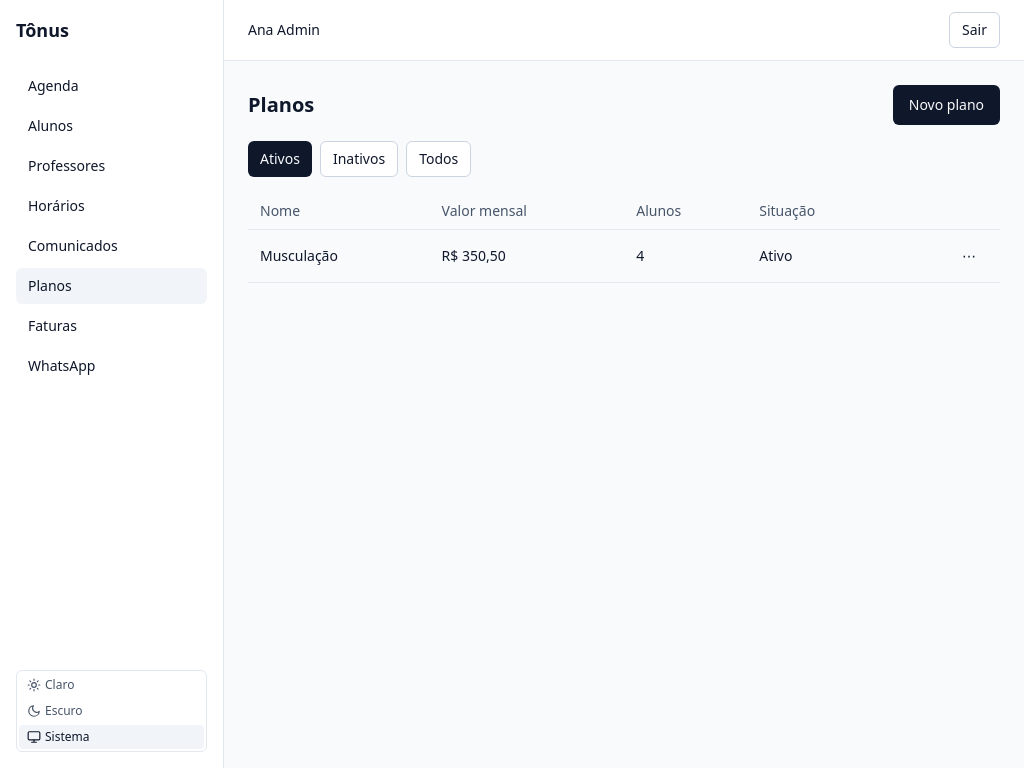
it: desativação de plano › não oferece excluir
The width and height of the screenshot is (1024, 768).
Click the button named "Ações de Musculação": [969, 256] box left=950, top=238, right=988, bottom=274
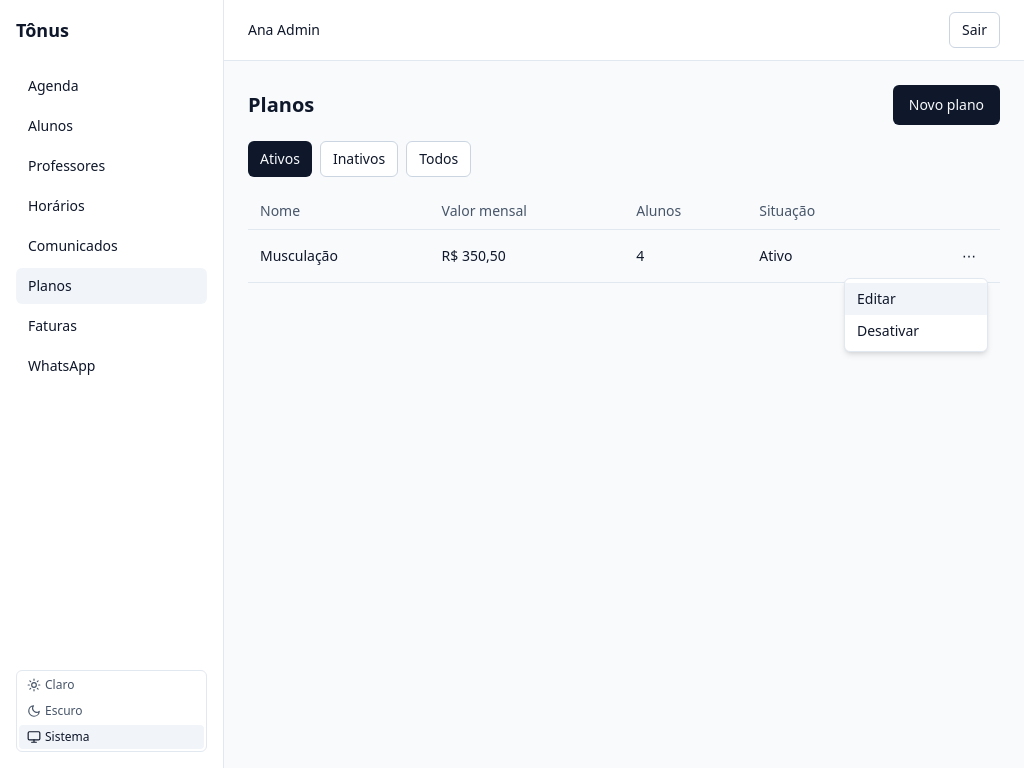
Expected: the menu item "Editar" is shown, left=845, top=283, right=987, bottom=315
